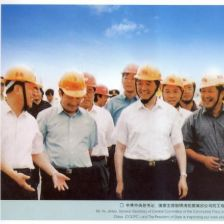head: (45, 87, 57, 103)
helmet: (6, 65, 42, 115), (58, 66, 87, 117), (133, 64, 162, 110), (199, 68, 224, 119), (120, 63, 143, 102), (161, 72, 184, 110), (84, 71, 99, 115), (183, 76, 198, 109), (95, 82, 111, 112)
